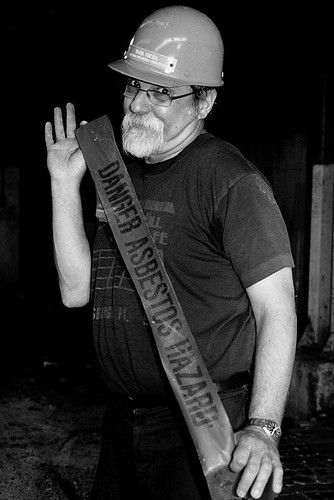person hardhat: (41, 6, 303, 500)
